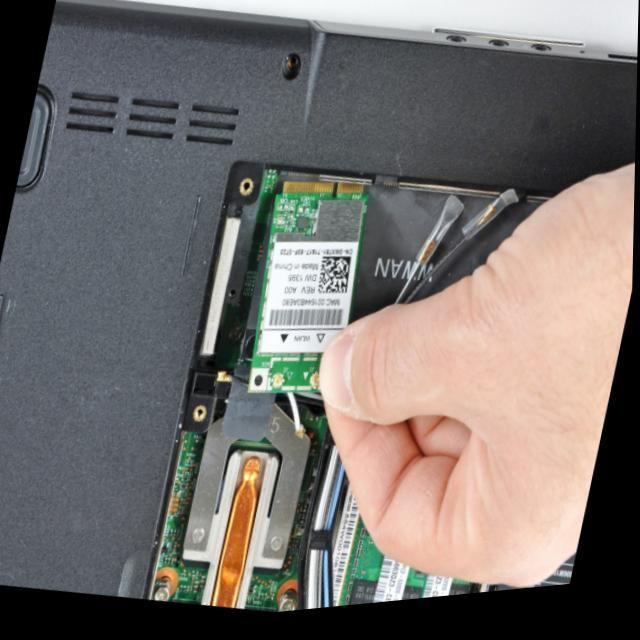datamatrix: (316, 258, 356, 306)
